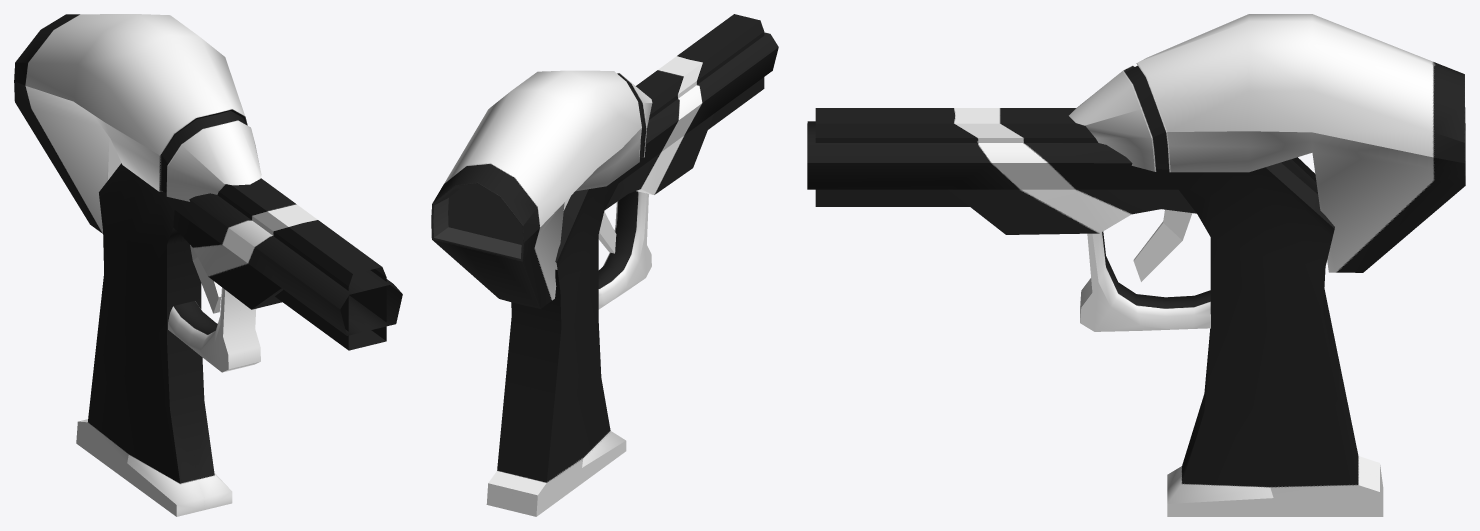
File: PistolBase.fbx
3 renders of one model, left to right at view 1: azimuth 30°, elevation 25°; view 2: azimuth 150°, elevation 25°; view 3: azimuth 270°, elevation 25°, orthographic. The views are drawn at different scales.
Parts seen in each view (by area): view 1: PistolBase; view 2: PistolBase; view 3: PistolBase.
Part boxes in pixels (bbox=[...]): PistolBase: bbox=[14, 14, 402, 516]; PistolBase: bbox=[431, 14, 778, 516]; PistolBase: bbox=[807, 14, 1465, 516].
Size of the model in its own units: 182 by 764 by 615.
